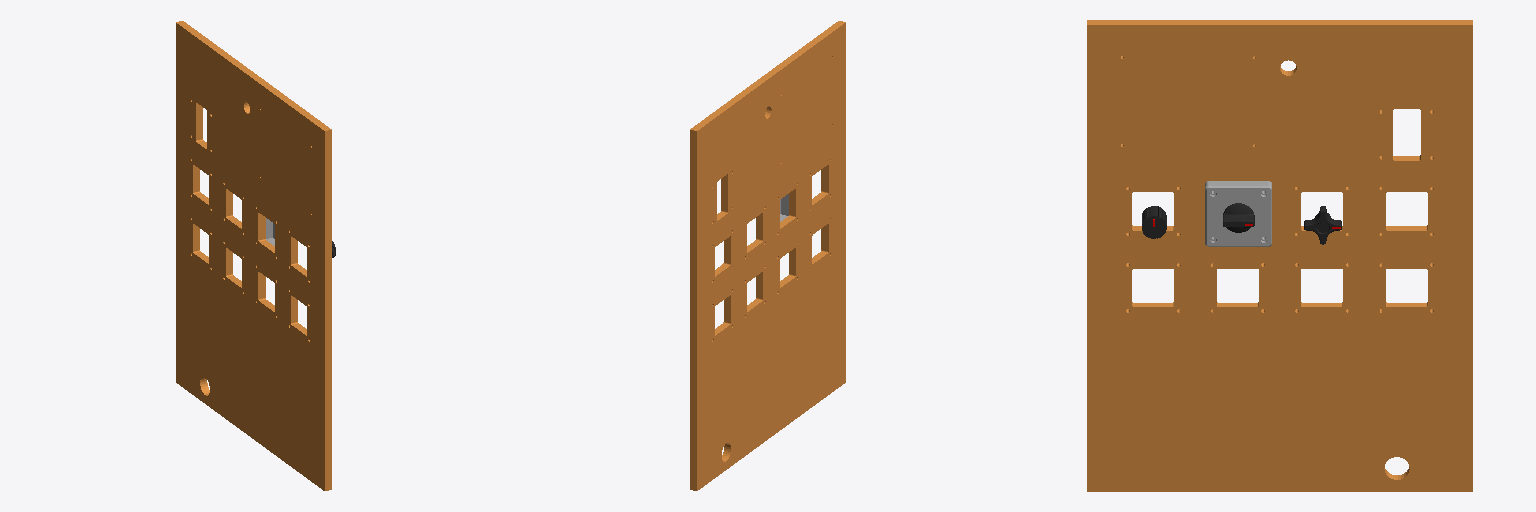
The robot description file, URDF, robot "knob_exp":
<?xml version="1.0"?>
<robot name="knob_exp">
    <link name="wall_link">
        <visual >
            <origin xyz="0 0.4572 0" rpy="0 0 3.141592653589793" />
            <geometry >
                <mesh scale="0.001 0.001 0.001" filename="meshes/wall.stl" />
            </geometry>
            <material >
                <color rgba="0.9 0.6 0.3 1" />
            </material>
        </visual>
        <collision >
            <origin xyz="0 0.4572 0" rpy="0 0 3.141592653589793" />
            <geometry >
                <mesh scale="0.001 0.001 0.001" filename="meshes/wall.stl" />
            </geometry>
        </collision>
        <inertial >
            <origin xyz="0 0.4572 0" rpy="0 0 3.141592653589793" />
            <mass value="100" />
            <inertia iyy="1.0" iyz="0.0" ixx="1.0" ixy="0.0" izz="1.0" ixz="0.0" />
        </inertial>
    </link>
    <link name="knob_holder_1">
        <visual >
            <origin xyz="0.015 0.07962899999999999 0.3659124" rpy="0 0 -1.5707963267948966" />
            <geometry >
                <mesh scale="0.001 0.001 0.001" filename="meshes/knob_holder_1.stl" />
            </geometry>
            <material >
                <color rgba="0.7 0.7 0.7 1" />
            </material>
        </visual>
        <collision >
            <origin xyz="0.015 0.07962899999999999 0.3659124" rpy="0 0 -1.5707963267948966" />
            <geometry >
                <mesh scale="0.001 0.001 0.001" filename="meshes/knob_holder_1.stl" />
            </geometry>
            <material >
                <color rgba="0.7 0.7 0.7 1" />
            </material>
        </collision>
        <inertial >
            <origin xyz="0 0 0" rpy="0 0 0" />
            <mass value="0.2" />
            <inertia iyy="0.000833" iyz="0" ixx="0.000833" ixy="0" izz="0.000833" ixz="0" />
        </inertial>
    </link>
    <joint type="fixed" name="knob_holder_1_joint">
        <parent link="wall_link" />
        <child link="knob_holder_1" />
        <origin xyz="0 0 0" rpy="0 0 0" />
        <axis xyz="1 0 0" />
        <limit velocity="5" upper="3.141592653589793" lower="-1.5707963267948966" effort="2" />
        <dynamics friction="0.01" damping="0" />
    </joint>
    <link name="knob_1">
        <visual >
            <origin xyz="0 0 0" rpy="0 1.5707963267948966 0" />
            <geometry >
                <mesh scale="0.001 0.001 0.001" filename="meshes/knob_1.stl" />
            </geometry>
            <material >
                <color rgba="0.2 0.2 0.2 1" />
            </material>
        </visual>
        <collision >
            <origin xyz="0 0 0" rpy="0 1.5707963267948966 0" />
            <geometry >
                <mesh scale="0.001 0.001 0.001" filename="meshes/knob_1.stl" />
            </geometry>
            <material >
                <color rgba="1 1 1 1" />
            </material>
        </collision>
        <inertial >
            <origin xyz="0 0 0" rpy="0 0 0" />
            <mass value="0.4" />
            <inertia iyy="0.0001" iyz="0" ixx="0.0001" ixy="0" izz="0.0001" ixz="0" />
        </inertial>
    </link>
    <joint type="revolute" name="knob_1_joint">
        <parent link="knob_holder_1" />
        <child link="knob_1" />
        <origin xyz="0.040999999999999995 0.07962899999999999 0.3659124" rpy="0 0 0" />
        <axis xyz="1 0 0" />
        <limit velocity="5" upper="6.283185307179586" lower="0" effort="2" />
        <dynamics friction="0.01" damping="0" />
    </joint>
    <link name="knob_indicator_1">
        <visual >
            <origin xyz="0 0 0" rpy="0 1.5707963267948966 0" />
            <geometry >
                <box size="0.01 0.0025 0.001" />
            </geometry>
            <material >
                <color rgba="1 0 0 1" />
            </material>
        </visual>
    </link>
    <joint type="fixed" name="knob_indicator_1_joint_rigid">
        <parent link="knob_1" />
        <child link="knob_indicator_1" />
        <origin xyz="0.005 0 0.006" rpy="0 0 0" />
    </joint>
    <link name="knob_holder_2">
        <visual >
            <origin xyz="0.015 0.17962879999999998 0.3659124" rpy="0 0 -1.5707963267948966" />
            <geometry >
                <mesh scale="0.001 0.001 0.001" filename="meshes/knob_holder_2.stl" />
            </geometry>
            <material >
                <color rgba="0.7 0.7 0.7 1" />
            </material>
        </visual>
        <collision >
            <origin xyz="0.015 0.17962879999999998 0.3659124" rpy="0 0 -1.5707963267948966" />
            <geometry >
                <mesh scale="0.001 0.001 0.001" filename="meshes/knob_holder_2.stl" />
            </geometry>
            <material >
                <color rgba="0.7 0.7 0.7 1" />
            </material>
        </collision>
        <inertial >
            <origin xyz="0 0 0" rpy="0 0 0" />
            <mass value="0.2" />
            <inertia iyy="0.000833" iyz="0" ixx="0.000833" ixy="0" izz="0.000833" ixz="0" />
        </inertial>
    </link>
    <joint type="fixed" name="knob_holder_2_joint">
        <parent link="wall_link" />
        <child link="knob_holder_2" />
        <origin xyz="0 0 0" rpy="0 0 0" />
        <axis xyz="1 0 0" />
        <limit velocity="5" upper="3.141592653589793" lower="-1.5707963267948966" effort="2" />
        <dynamics friction="0.01" damping="0" />
    </joint>
    <link name="knob_2">
        <visual >
            <origin xyz="0 0 0" rpy="0 1.5707963267948966 0" />
            <geometry >
                <mesh scale="0.001 0.001 0.001" filename="meshes/knob_2.stl" />
            </geometry>
            <material >
                <color rgba="0.2 0.2 0.2 1" />
            </material>
        </visual>
        <collision >
            <origin xyz="0 0 0" rpy="0 1.5707963267948966 0" />
            <geometry >
                <mesh scale="0.001 0.001 0.001" filename="meshes/knob_2.stl" />
            </geometry>
            <material >
                <color rgba="1 1 1 1" />
            </material>
        </collision>
        <inertial >
            <origin xyz="0 0 0" rpy="0 0 0" />
            <mass value="0.4" />
            <inertia iyy="0.0001" iyz="0" ixx="0.0001" ixy="0" izz="0.0001" ixz="0" />
        </inertial>
    </link>
    <joint type="revolute" name="knob_2_joint">
        <parent link="knob_holder_2" />
        <child link="knob_2" />
        <origin xyz="0.027 0.17962879999999998 0.3659124" rpy="0 0 0" />
        <axis xyz="1 0 0" />
        <limit velocity="5" upper="6.283185307179586" lower="0" effort="2" />
        <dynamics friction="0.01" damping="0" />
    </joint>
    <link name="knob_indicator_2">
        <visual >
            <origin xyz="0 0 0" rpy="1.5707963267948966 3.141592653589793 1.5707963267948966" />
            <geometry >
                <box size="0.01 0.0025 0.001" />
            </geometry>
            <material >
                <color rgba="1 0 0 1" />
            </material>
        </visual>
    </link>
    <joint type="fixed" name="knob_indicator_2_joint_rigid">
        <parent link="knob_2" />
        <child link="knob_indicator_2" />
        <origin xyz="0.01 0.012 0" rpy="0 0 0" />
    </joint>
    <link name="knob_holder_3">
        <visual >
            <origin xyz="0.015 0.27962859999999995 0.3659124" rpy="0 0 -1.5707963267948966" />
            <geometry >
                <mesh scale="0.001 0.001 0.001" filename="meshes/knob_holder_3.stl" />
            </geometry>
            <material >
                <color rgba="0.7 0.7 0.7 1" />
            </material>
        </visual>
        <collision >
            <origin xyz="0.015 0.27962859999999995 0.3659124" rpy="0 0 -1.5707963267948966" />
            <geometry >
                <mesh scale="0.001 0.001 0.001" filename="meshes/knob_holder_3.stl" />
            </geometry>
            <material >
                <color rgba="0.7 0.7 0.7 1" />
            </material>
        </collision>
        <inertial >
            <origin xyz="0 0 0" rpy="0 0 0" />
            <mass value="0.2" />
            <inertia iyy="0.000833" iyz="0" ixx="0.000833" ixy="0" izz="0.000833" ixz="0" />
        </inertial>
    </link>
    <joint type="fixed" name="knob_holder_3_joint">
        <parent link="wall_link" />
        <child link="knob_holder_3" />
        <origin xyz="0 0 0" rpy="0 0 0" />
        <axis xyz="1 0 0" />
        <limit velocity="5" upper="3.141592653589793" lower="-1.5707963267948966" effort="2" />
        <dynamics friction="0.01" damping="0" />
    </joint>
    <link name="knob_3">
        <visual >
            <origin xyz="0 0 0" rpy="0 1.5707963267948966 0" />
            <geometry >
                <mesh scale="0.001 0.001 0.001" filename="meshes/knob_3.stl" />
            </geometry>
            <material >
                <color rgba="0.2 0.2 0.2 1" />
            </material>
        </visual>
        <collision >
            <origin xyz="0 0 0" rpy="0 1.5707963267948966 0" />
            <geometry >
                <mesh scale="0.001 0.001 0.001" filename="meshes/knob_3.stl" />
            </geometry>
            <material >
                <color rgba="1 1 1 1" />
            </material>
        </collision>
        <inertial >
            <origin xyz="0 0 0" rpy="0 0 0" />
            <mass value="0.4" />
            <inertia iyy="0.0001" iyz="0" ixx="0.0001" ixy="0" izz="0.0001" ixz="0" />
        </inertial>
    </link>
    <joint type="revolute" name="knob_3_joint">
        <parent link="knob_holder_3" />
        <child link="knob_3" />
        <origin xyz="0.027 0.27962859999999995 0.3659124" rpy="0 0 0" />
        <axis xyz="1 0 0" />
        <limit velocity="5" upper="6.283185307179586" lower="0" effort="2" />
        <dynamics friction="0.01" damping="0" />
    </joint>
    <link name="knob_indicator_3">
        <visual >
            <origin xyz="0 0 0" rpy="1.5707963267948966 3.141592653589793 1.5707963267948966" />
            <geometry >
                <box size="0.01 0.0025 0.001" />
            </geometry>
            <material >
                <color rgba="1 0 0 1" />
            </material>
        </visual>
    </link>
    <joint type="fixed" name="knob_indicator_3_joint_rigid">
        <parent link="knob_3" />
        <child link="knob_indicator_3" />
        <origin xyz="0.019 0.016 0" rpy="0 0 0" />
    </joint>
</robot>

--- What the picture shows (computed from the rendered views, not written in the file) ---
3 views of the same robot in one strip: view 1: azimuth 30°, elevation 25°; view 2: azimuth 150°, elevation 25°; view 3: azimuth 270°, elevation 25° (orthographic).
Robot: knob_exp — 10 links, 9 joints (3 revolute, 6 fixed); root link wall_link; default pose: all joints at 0.
Visible links, largest first — view 1: wall_link; view 2: wall_link; view 3: wall_link, knob_holder_2, knob_2, knob_1, knob_3.
Link boxes in pixels (x1,y1,x2,y2): wall_link: [176, 21, 331, 490]; wall_link: [690, 21, 845, 490]; wall_link: [1087, 20, 1472, 491]; knob_holder_2: [1205, 181, 1271, 246]; knob_2: [1223, 203, 1254, 232]; knob_1: [1142, 206, 1166, 238]; knob_3: [1304, 206, 1341, 244].
Size in the robot's own frame: 0.0592 by 0.4572 by 0.6096 metres.
5 mesh visuals loaded from 7 distinct referenced files (5 binary STL); not drawn: 2 (reference not matched to a file when rendering).